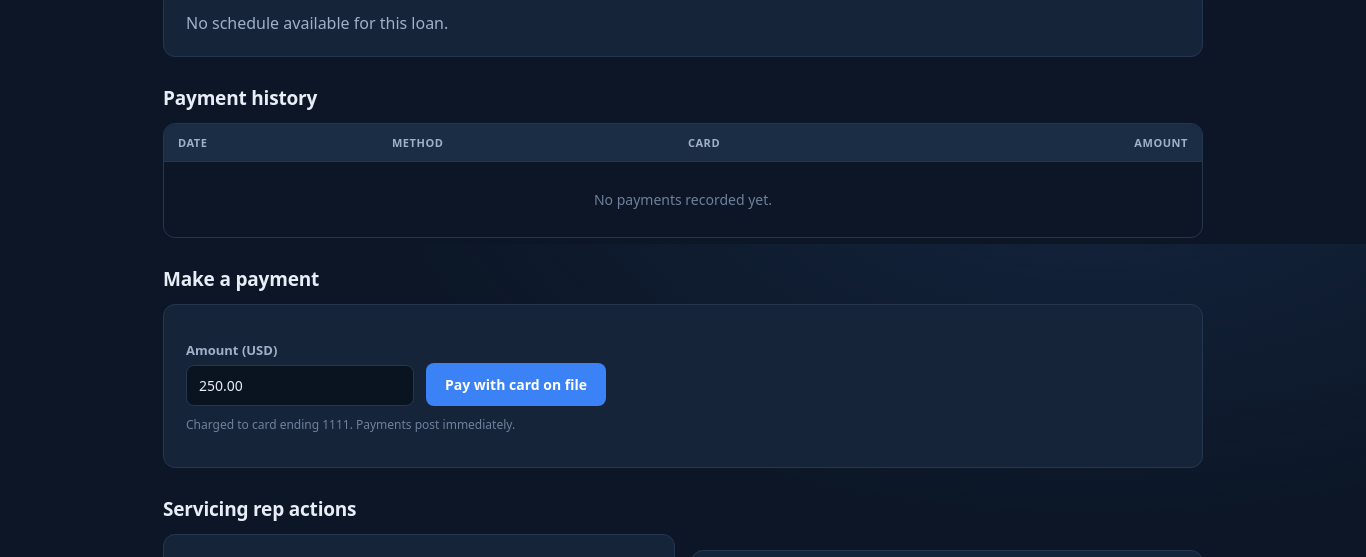
it: loan detail — payment idempotency (D19) › sends an Idempotency-Key header on every payment submission
(page scrolled)
Click the button "Pay with card on file".
click(516, 384)  # box [426,362,606,406]
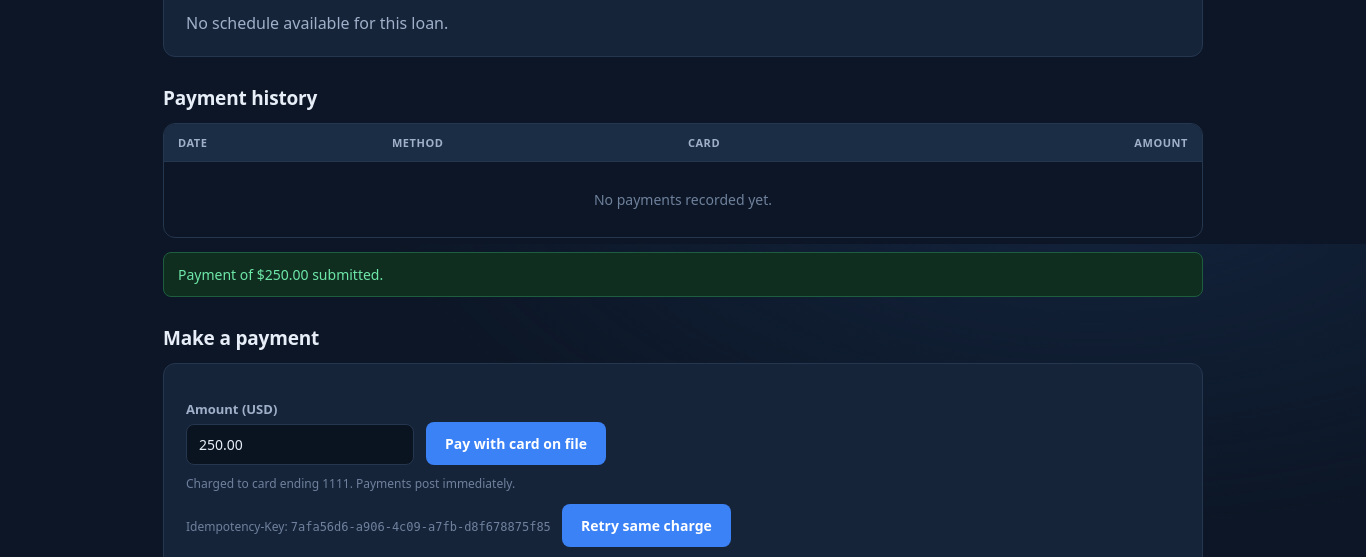
Check: the text "Payment of $250.00 submitted." is shown, box [163,252,1203,296]
